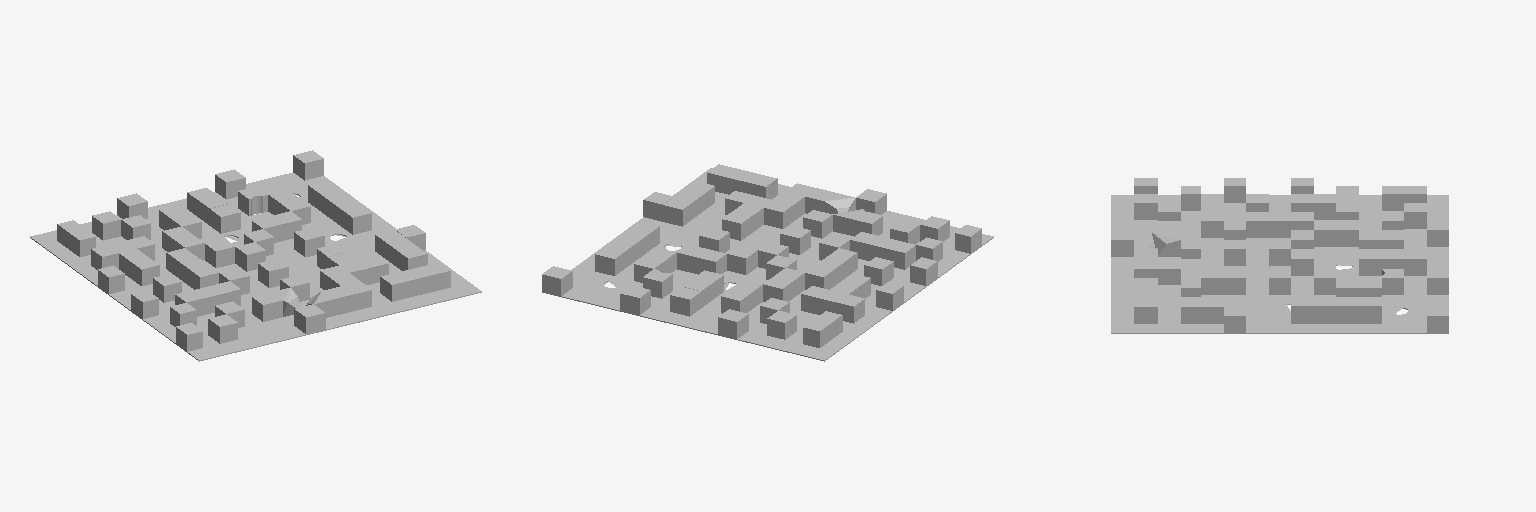
Rendered from Nivel4.obj.
3 renders of one model, left to right at view 1: azimuth 30°, elevation 25°; view 2: azimuth 150°, elevation 25°; view 3: azimuth 270°, elevation 25°, orthographic.
Parts seen in each view (by area): view 1: Cube; view 2: Cube; view 3: Cube.
Part boxes in pixels (left/top/right/bottom): Cube: left=30, top=150, right=481, bottom=361; Cube: left=542, top=164, right=993, bottom=361; Cube: left=1111, top=178, right=1448, bottom=333.
Size of the model in its own units: 28.94 by 1.78 by 30.